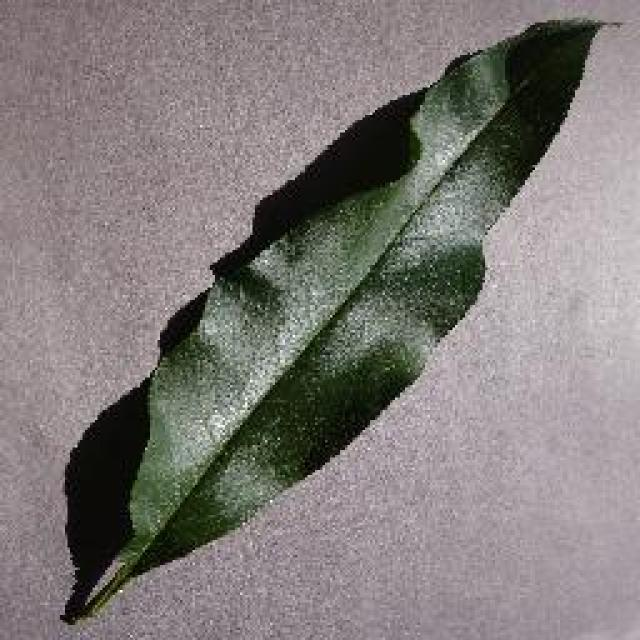Pea_healthy: (126, 41, 566, 541)
